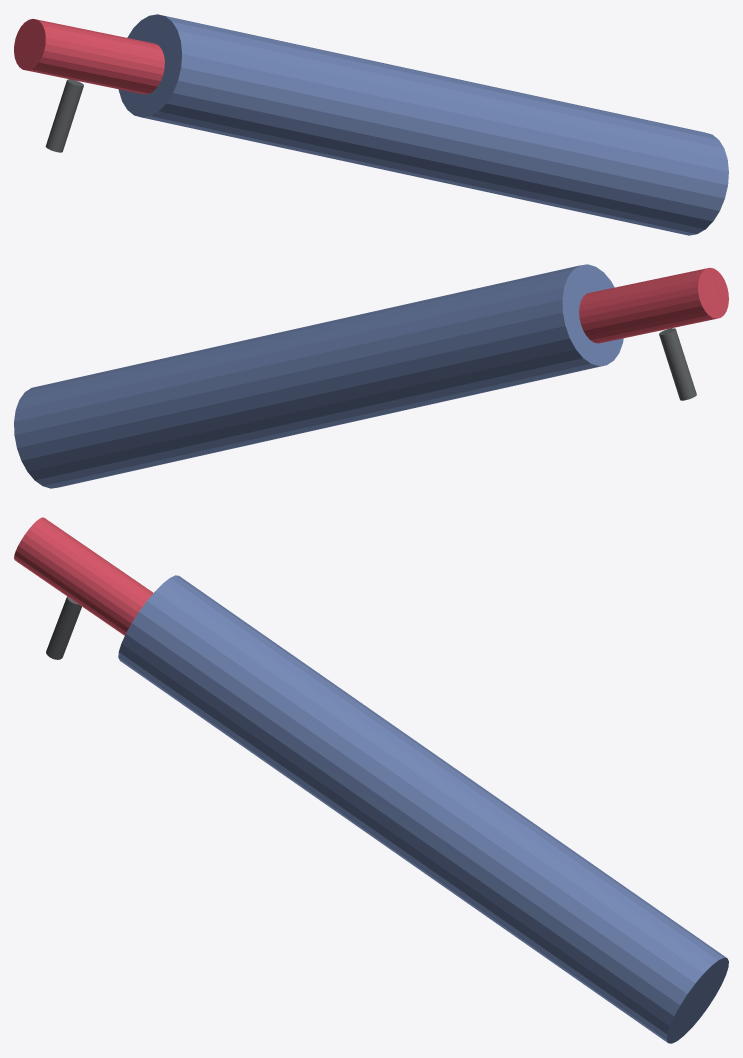
Rendered from electrodeHolder2.glb.
3 renders of one model, top to bottom at view 1: azimuth 30°, elevation 25°; view 2: azimuth 150°, elevation 25°; view 3: azimuth 330°, elevation 25°, orthographic.
Parts seen in each view (by area): view 1: Mesh_Mesh_head_geo.001_lambert2SG.001; view 2: Mesh_Mesh_head_geo.001_lambert2SG.001; view 3: Mesh_Mesh_head_geo.001_lambert2SG.001.
Part boxes in pixels (x1,y1,x2,y2): Mesh_Mesh_head_geo.001_lambert2SG.001: (14, 14, 728, 235); Mesh_Mesh_head_geo.001_lambert2SG.001: (14, 264, 728, 488); Mesh_Mesh_head_geo.001_lambert2SG.001: (14, 517, 728, 1043).
Size of the model in its own units: 22.43 by 11.4 by 3.12.
